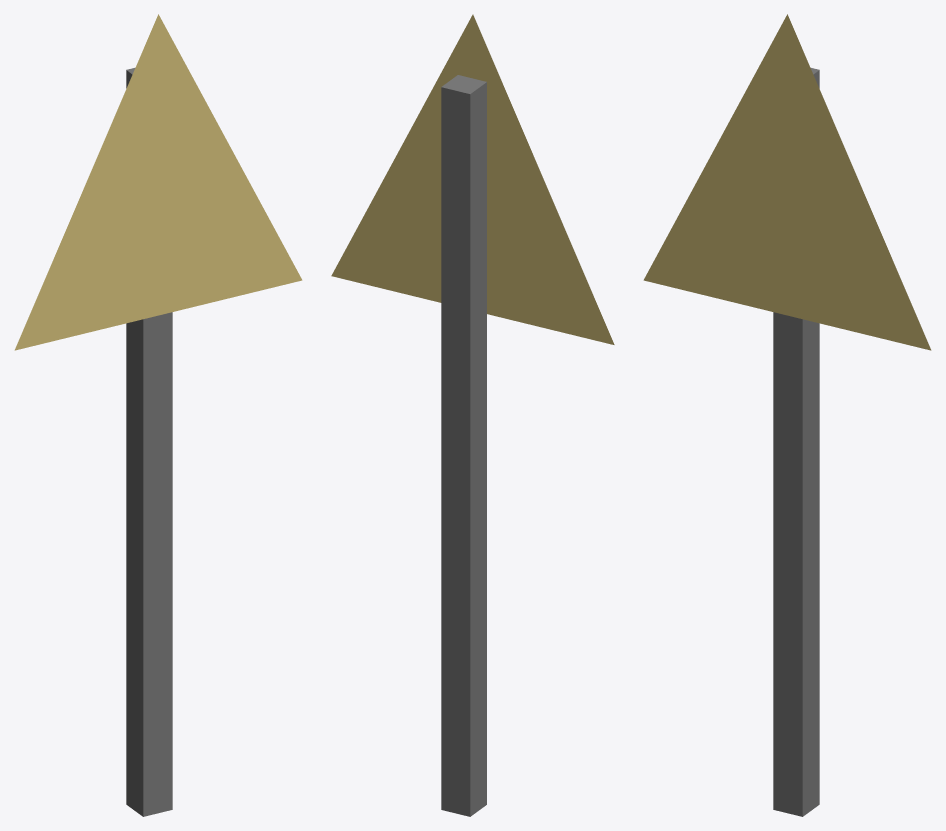
File: Signpost3_Model.fbx
3 renders of one model, left to right at view 1: azimuth 30°, elevation 25°; view 2: azimuth 150°, elevation 25°; view 3: azimuth 330°, elevation 25°, orthographic.
Parts seen in each view (by area): view 1: Signpost_tri; view 2: Signpost_tri; view 3: Signpost_tri.
Boxes of the visible parts, box(x1,y1,x2,y2) form: Signpost_tri: box(14, 14, 302, 816); Signpost_tri: box(331, 14, 614, 816); Signpost_tri: box(643, 14, 931, 816).
Size of the model in its own units: 115 by 304 by 12.09.
